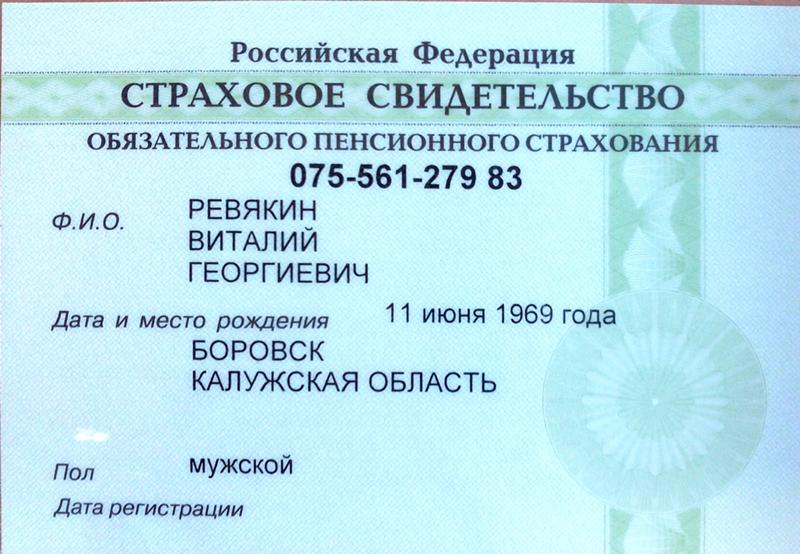text: (179, 333, 506, 400), (382, 292, 617, 333), (276, 159, 530, 194), (182, 257, 372, 290), (180, 194, 323, 222), (185, 226, 328, 254), (177, 454, 297, 479)
